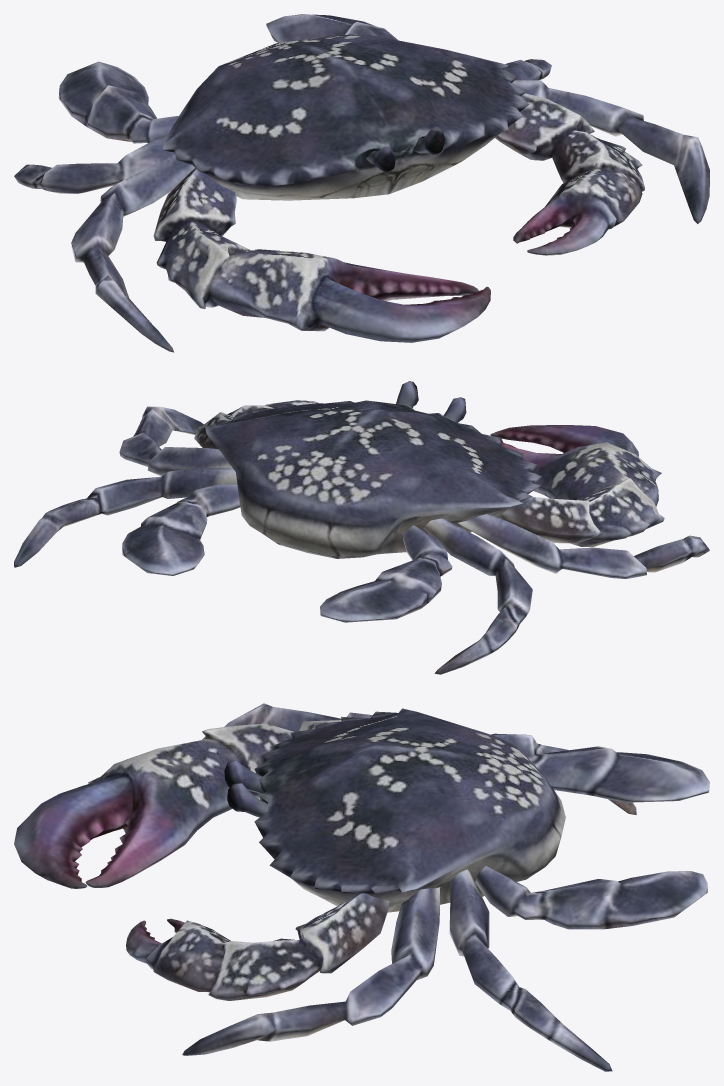
Rendered from 209-carcinos.glb.
The picture shows the model from 3 angles, top to bottom: view 1: azimuth 30°, elevation 25°; view 2: azimuth 150°, elevation 25°; view 3: azimuth 270°, elevation 25°; orthographic projection. The views are drawn at different scales.
Size of the model in its own units: 5.85 by 1.48 by 5.35.
Materials: 1 (1 with a texture image).
